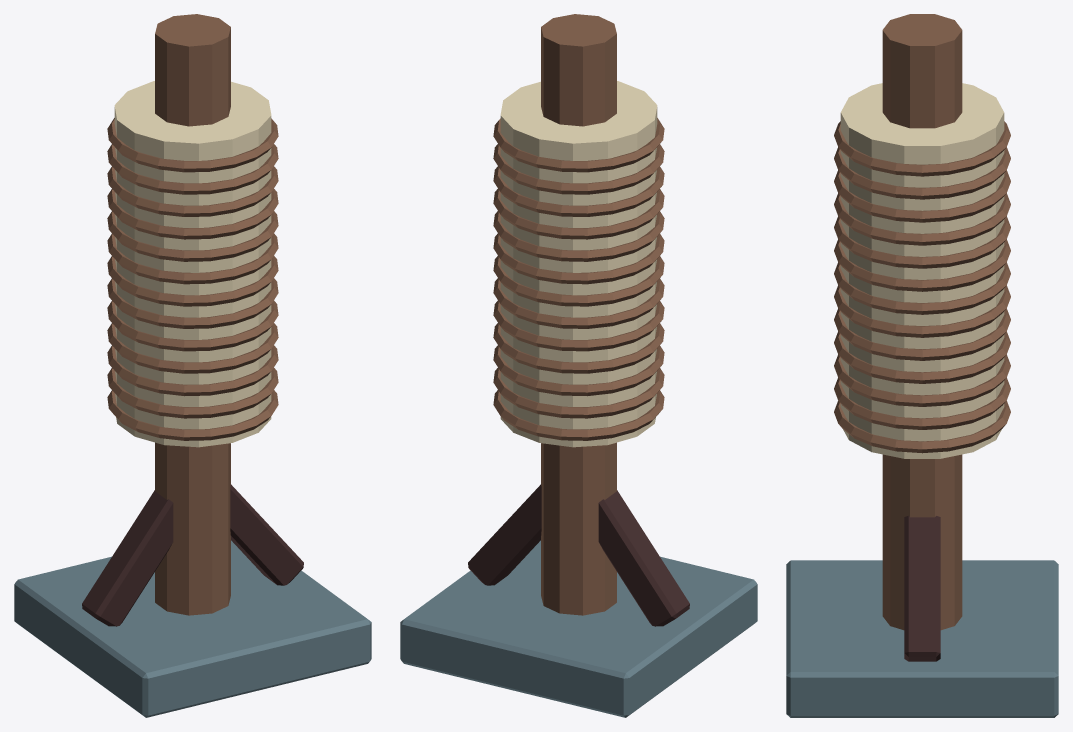
File: striking_post.glb
3 views of the same model, side by side, from view 1: azimuth 30°, elevation 25°; view 2: azimuth 150°, elevation 25°; view 3: azimuth 270°, elevation 25° (orthographic). The views are drawn at different scales.
Parts seen in each view (by area): view 1: striking_post_Floor, striking_post_Stone, striking_post_Plaster, striking_post_Timber; view 2: striking_post_Floor, striking_post_Stone, striking_post_Plaster, striking_post_Timber; view 3: striking_post_Floor, striking_post_Stone, striking_post_Plaster, striking_post_Timber.
Part boxes in pixels (left/top/right/bottom): striking_post_Floor: left=107, top=14, right=278, bottom=615; striking_post_Stone: left=14, top=540, right=371, bottom=717; striking_post_Plaster: left=114, top=81, right=271, bottom=447; striking_post_Timber: left=82, top=484, right=303, bottom=626; striking_post_Floor: left=493, top=14, right=664, bottom=615; striking_post_Stone: left=400, top=540, right=757, bottom=717; striking_post_Plaster: left=500, top=81, right=657, bottom=447; striking_post_Timber: left=468, top=484, right=689, bottom=626; striking_post_Floor: left=834, top=14, right=1010, bottom=630; striking_post_Stone: left=786, top=560, right=1058, bottom=717; striking_post_Plaster: left=840, top=83, right=1004, bottom=458; striking_post_Timber: left=904, top=516, right=940, bottom=661.
Bounding box in the file's own units: 0.75 × 1.92 × 0.75.
